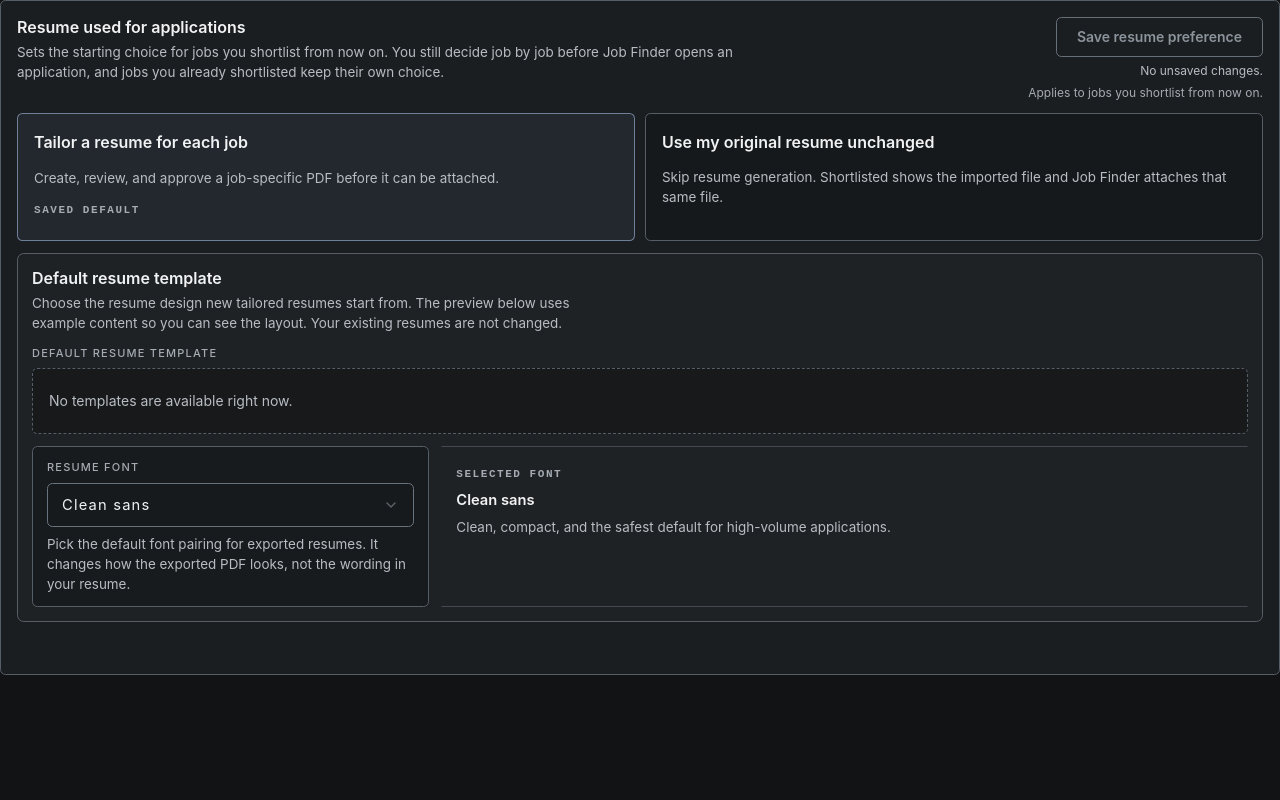
Scenario: SettingsApplicationDefaultsSection › keeps the explicit near-choice resume flow and stages without saving
The width and height of the screenshot is (1280, 800).
Expected: the text named "Default resume template" is shown, [32,368,1248,434]
Click the radio button labelled "Use my original resume unchanged".
click(954, 177)  # box [645,113,1263,241]
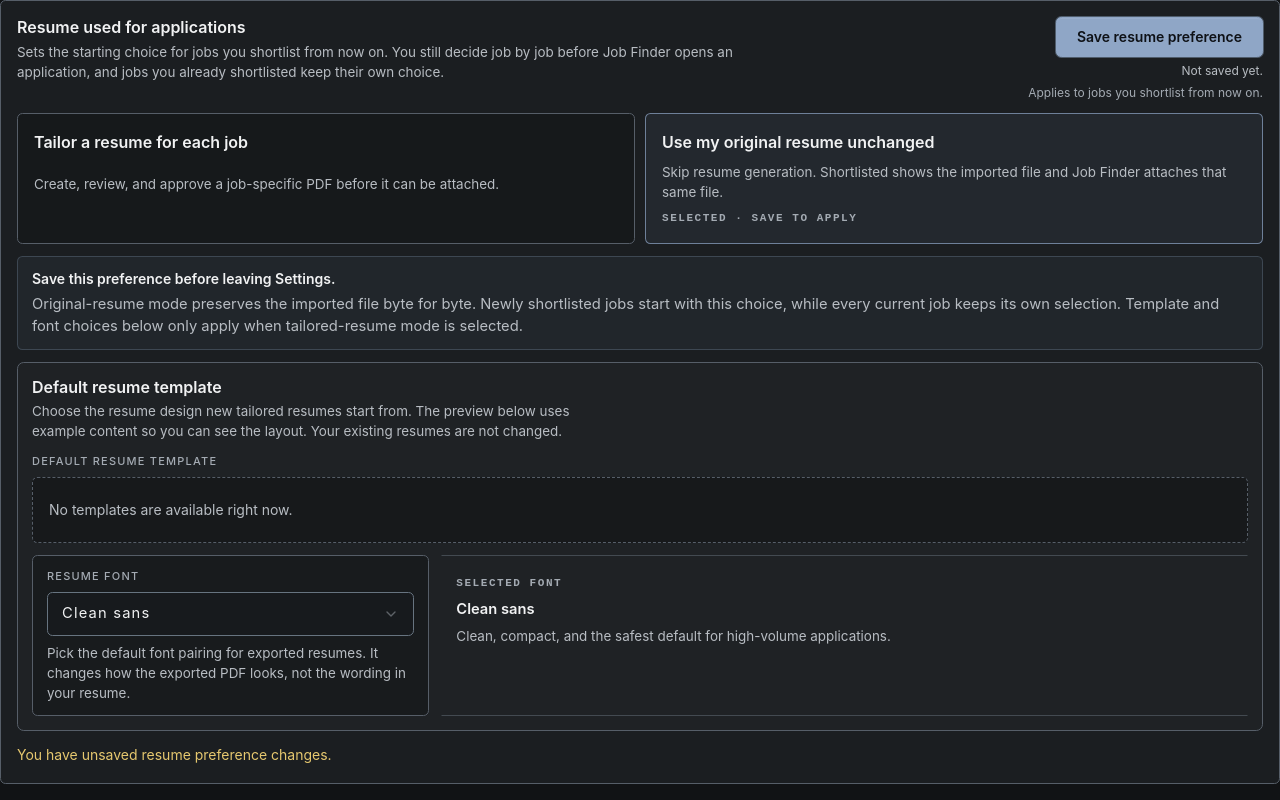
Expected: the text "Selected · save to apply" is shown, [662,212,857,224]
Expected: the text "Save this preference before leaving Settings." is shown, [32,270,335,286]
Expected: the button "Save resume preference" is enabled, [1056,17,1263,57]
